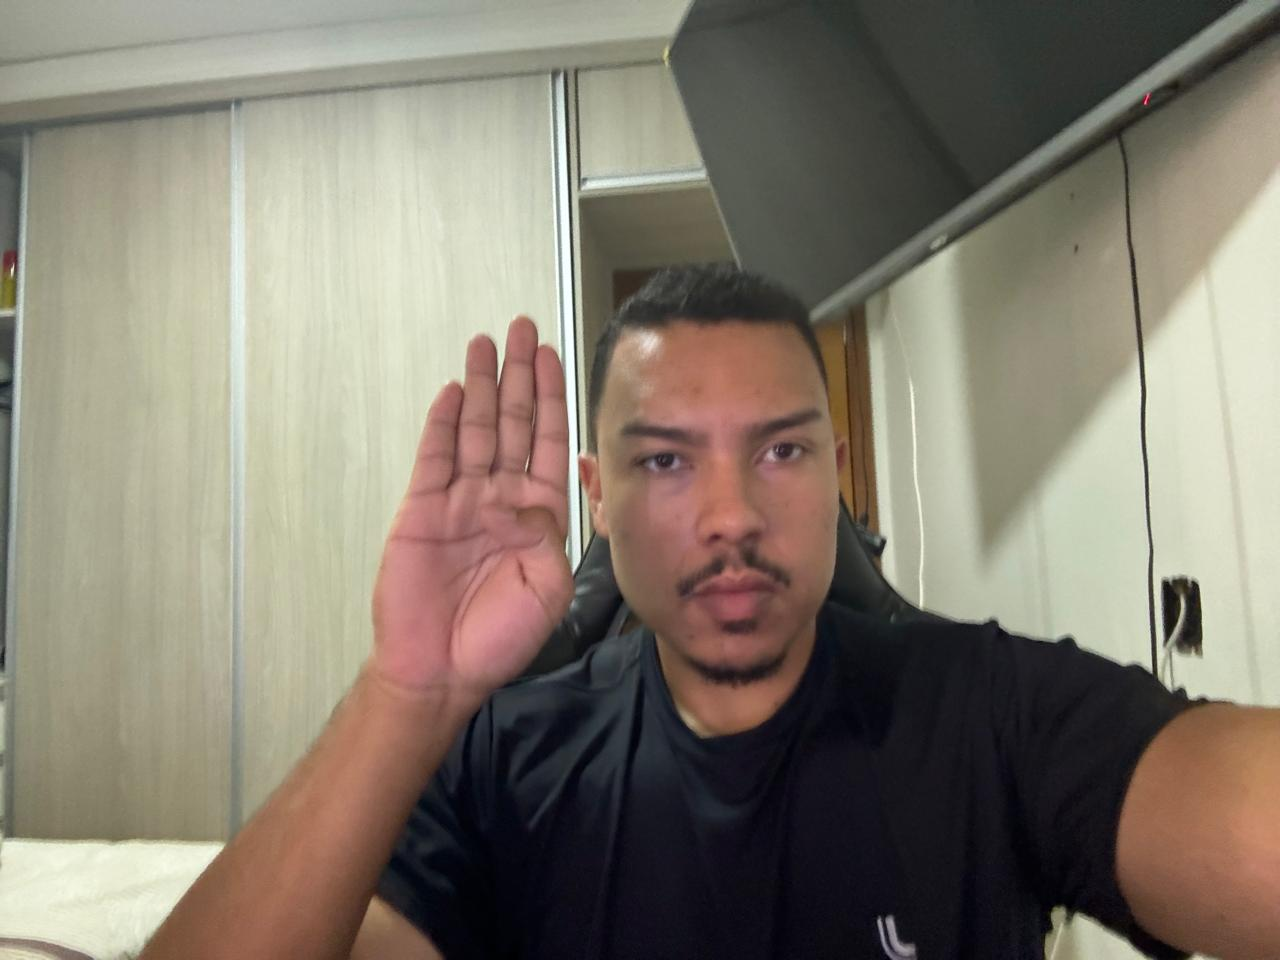b: (366, 311, 586, 698)
